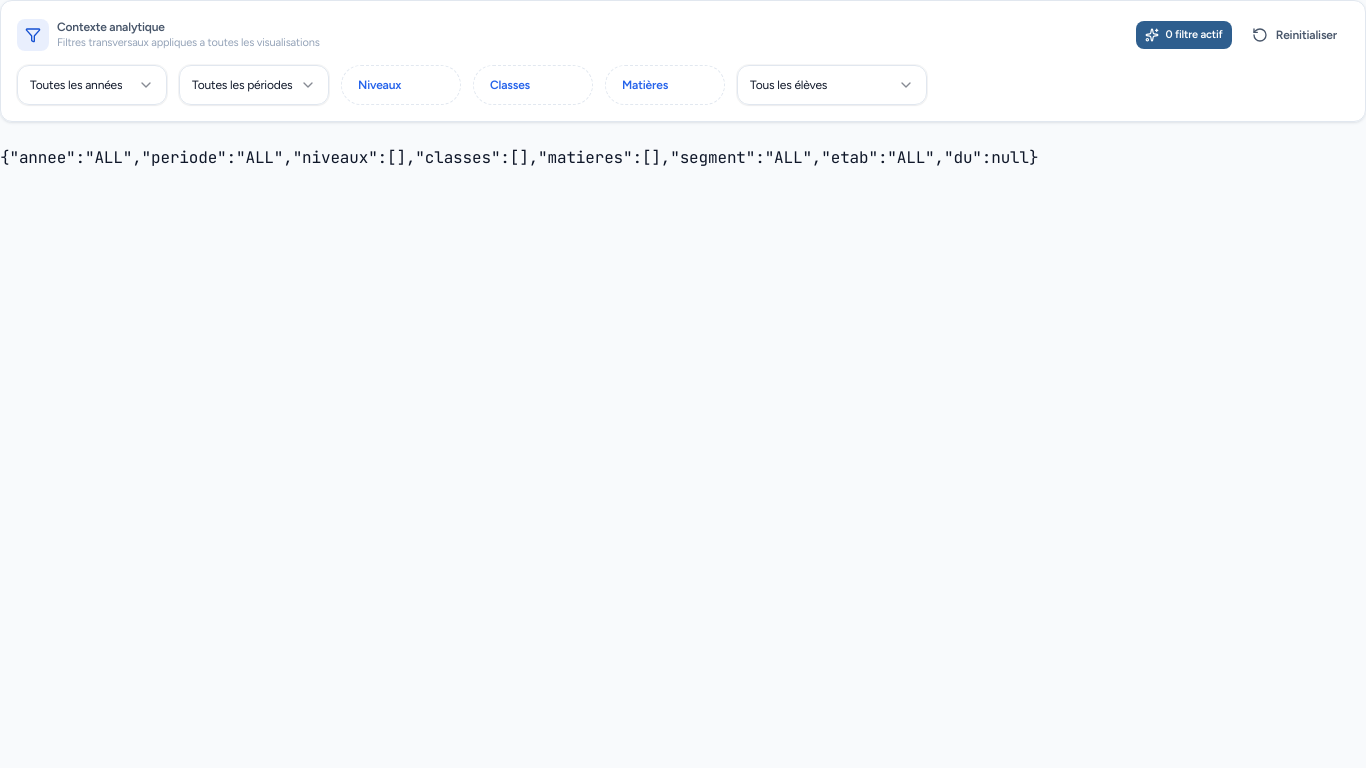
Test: AnalyticsContextBar › affiche « Aucune option » quand rien n'est chargé (école non choisie)
Click the button "Niveaux" at coordinates (401, 85), box top-left (341, 65), bottom-right (461, 105)
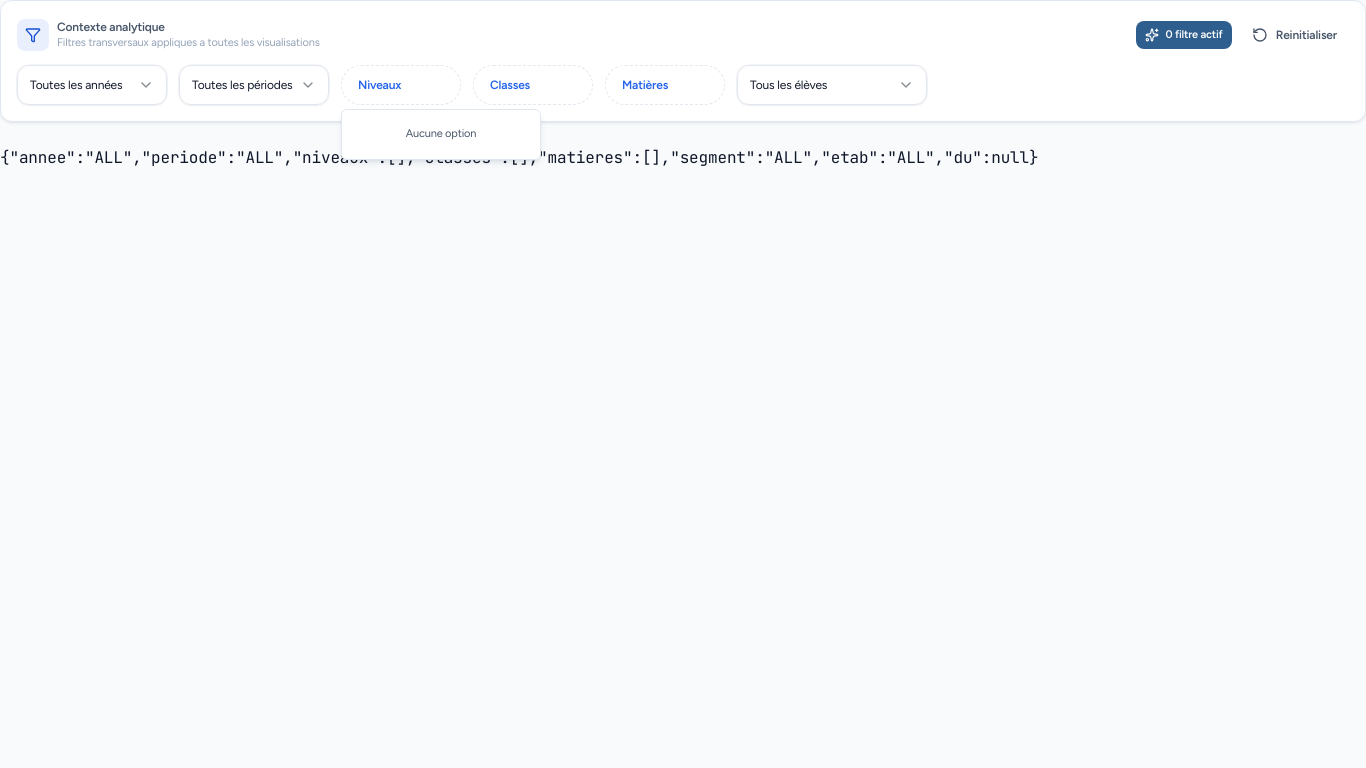
Expected: the text "Aucune option" is shown, top-left (406, 127), bottom-right (476, 140)
